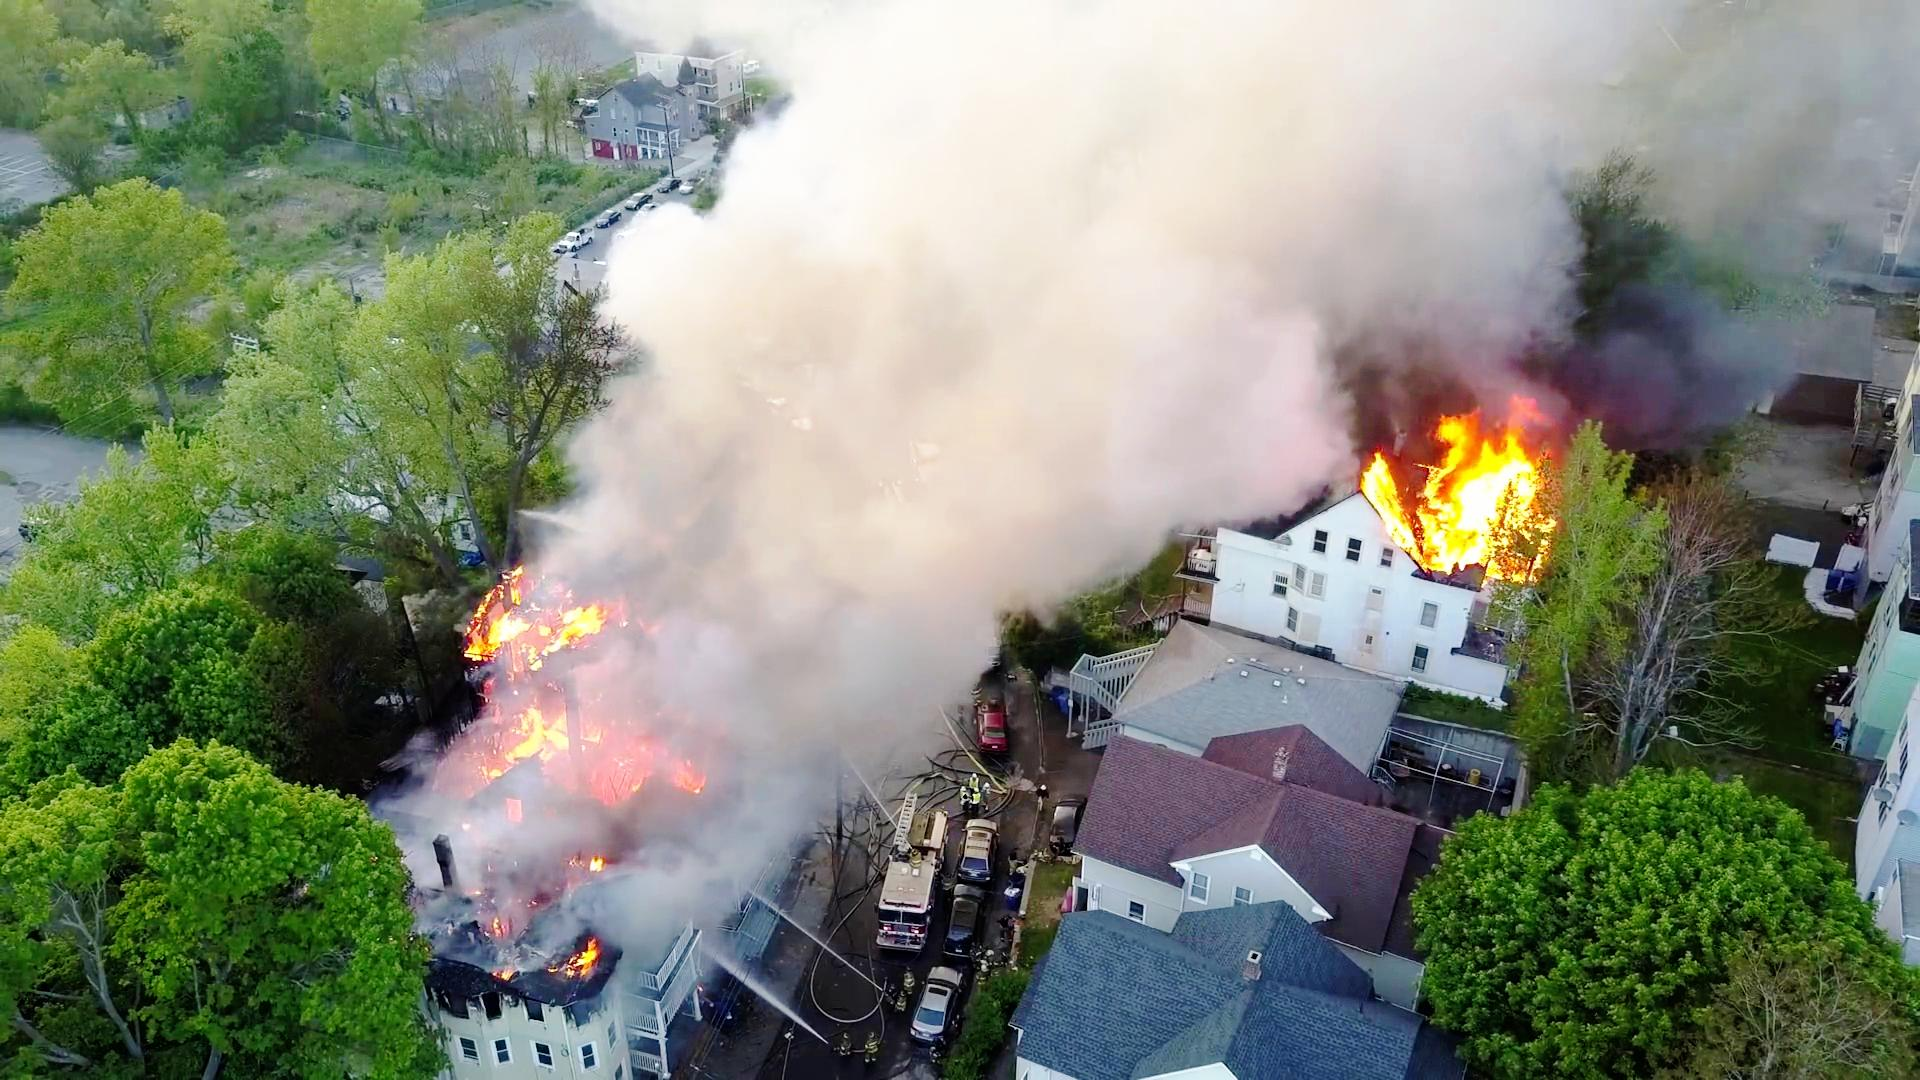fire: (1366, 413, 1573, 588)
